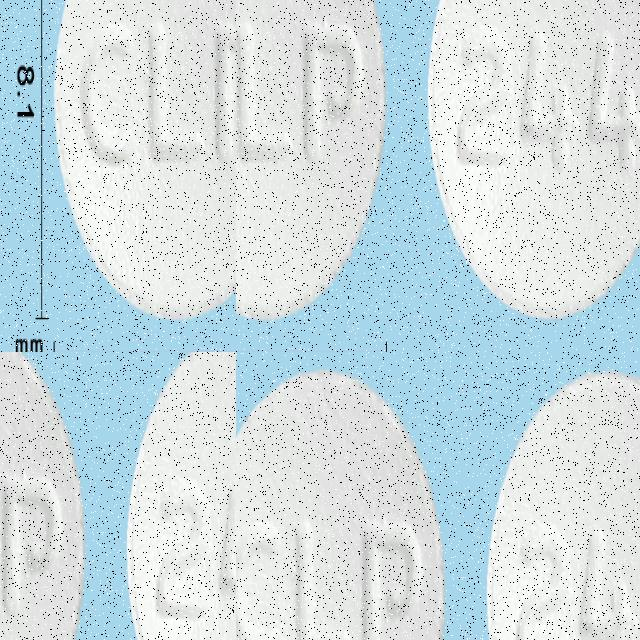Celltrion Levofloxacin: (236, 365, 450, 640), (484, 365, 640, 640)
Clamin: (107, 352, 236, 582), (0, 499, 134, 640)
Clocide: (236, 40, 431, 323), (412, 0, 640, 128)
Craycin - 500mg: (53, 65, 236, 318)
